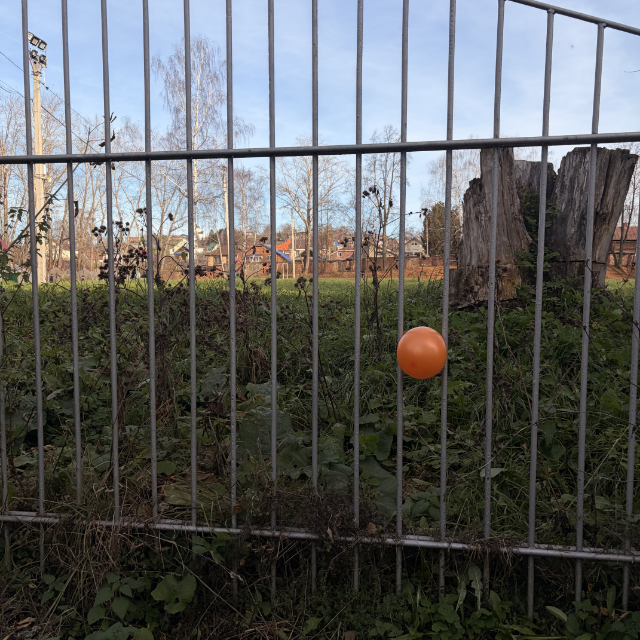balloon: (396, 325, 447, 380)
